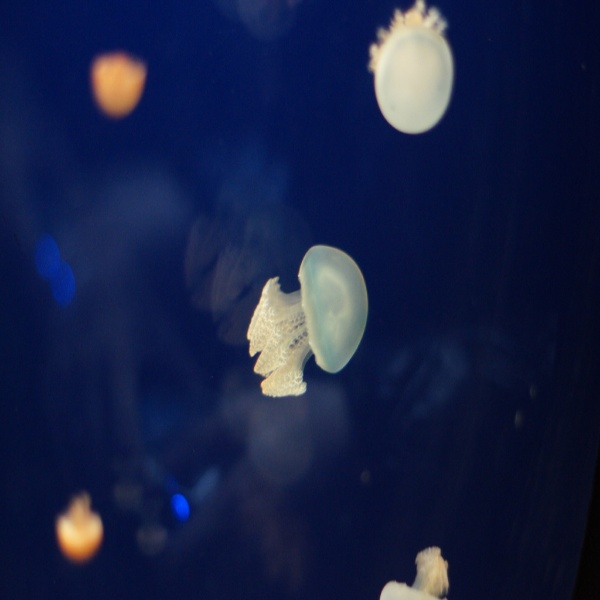Jellyfish: (247, 248, 369, 401), (366, 0, 453, 133), (379, 544, 448, 599), (56, 498, 106, 560)
